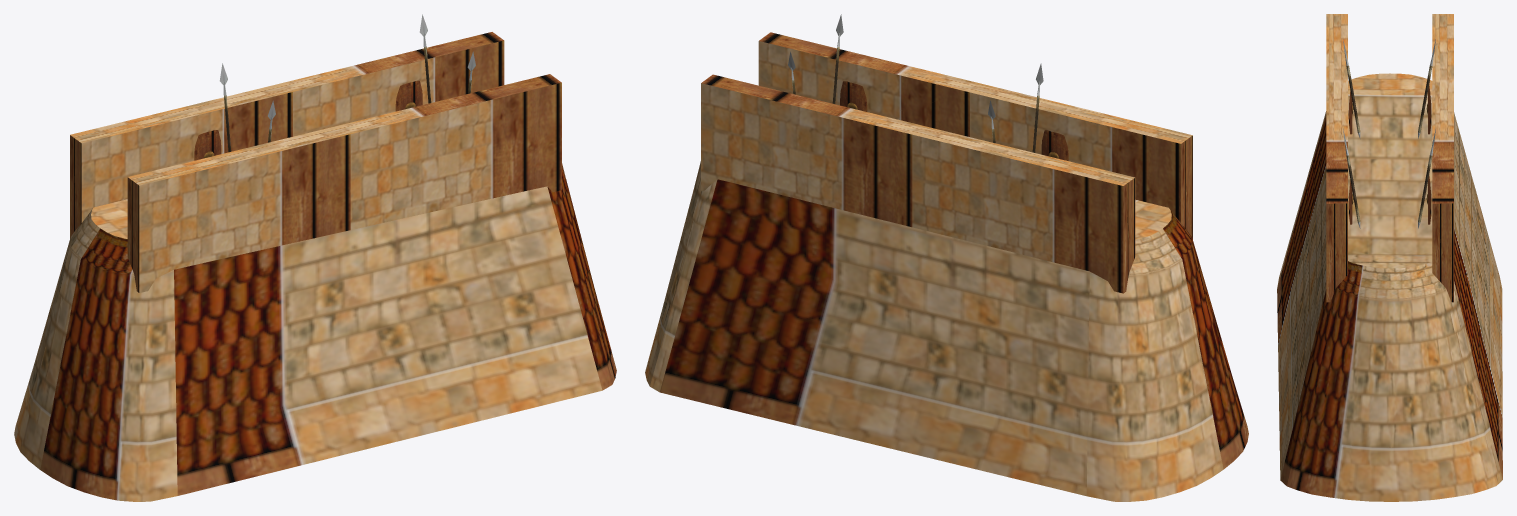
Rendered from wall_long.dae.
3 views of the same model, side by side, from view 1: azimuth 30°, elevation 25°; view 2: azimuth 150°, elevation 25°; view 3: azimuth 270°, elevation 25° (orthographic). The views are drawn at different scales.
Visible parts, largest first — view 1: wall_long; view 2: wall_long; view 3: wall_long.
Part boxes in pixels (x1,y1,x2,y2): wall_long: (14, 14, 616, 501); wall_long: (645, 14, 1248, 501); wall_long: (1277, 14, 1502, 501).
Size of the model in its own units: 28.73 by 11.09 by 16.83.
